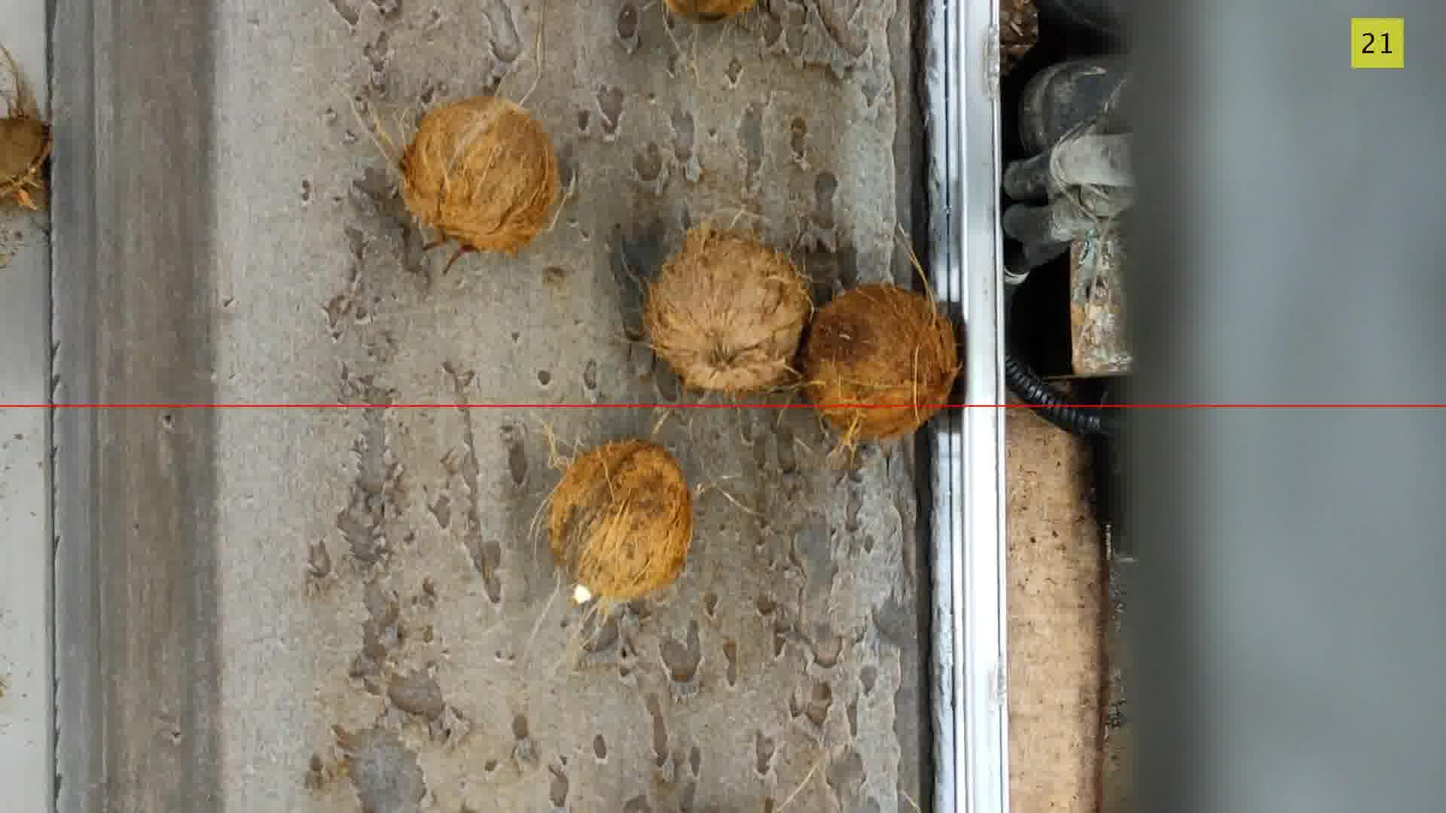Coconut: (642, 223, 811, 401), (399, 95, 560, 268), (804, 284, 961, 447), (546, 439, 691, 611), (0, 46, 52, 209), (664, 0, 755, 22)
